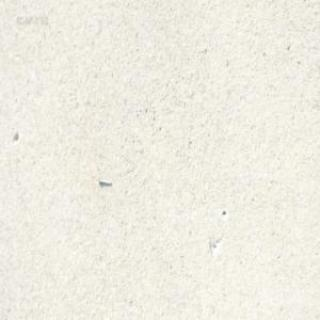Nailtrack_idkeyframe: (97, 174, 111, 184)
